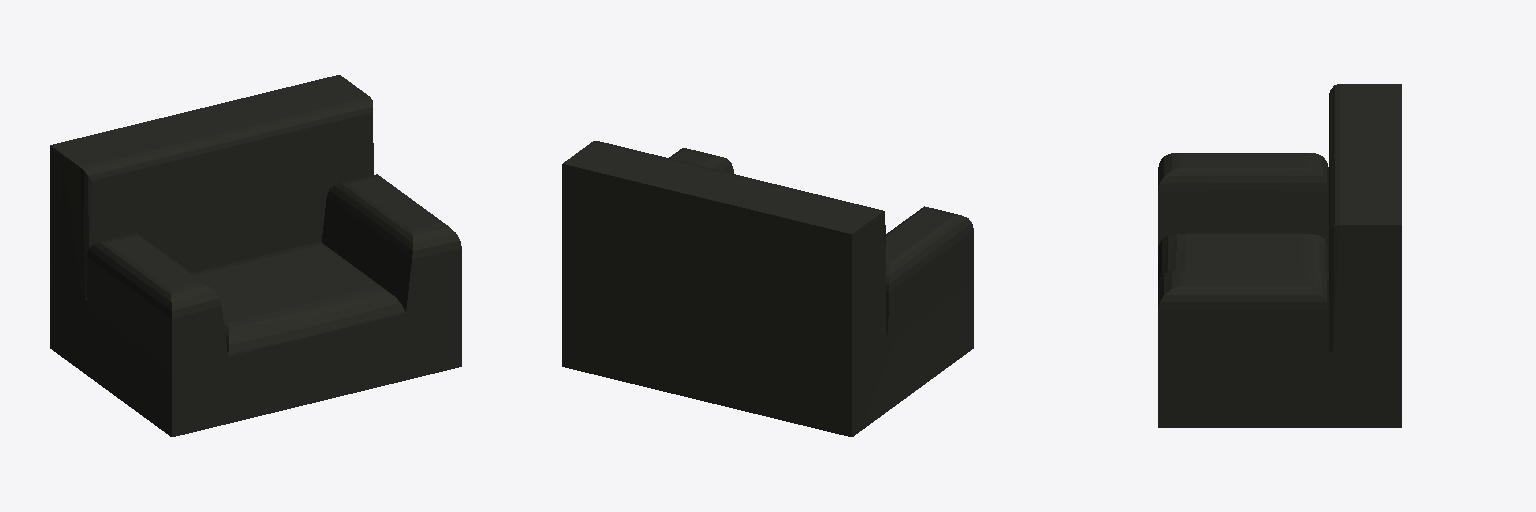
File: armchair.obj
The picture shows the model from 3 angles: view 1: azimuth 30°, elevation 25°; view 2: azimuth 150°, elevation 25°; view 3: azimuth 270°, elevation 25°; orthographic projection.
Parts seen in each view (by area): view 1: couch1; view 2: couch1; view 3: couch1.
Boxes of the visible parts, x1,y1,x2,y2 form: couch1: [50, 75, 461, 436]; couch1: [562, 141, 973, 436]; couch1: [1158, 84, 1401, 427].
Size of the model in its own units: 10.48 by 7.01 by 7.62.